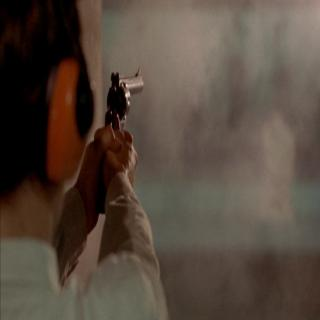gun: (94, 48, 154, 178)
